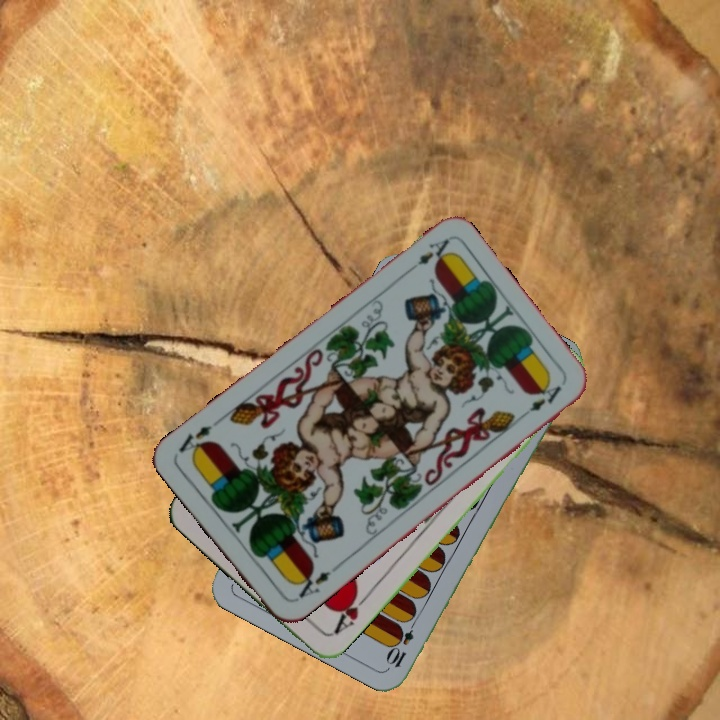E10: (384, 613, 420, 670)
EA: (401, 234, 454, 276), (290, 566, 334, 604)
HA: (329, 586, 372, 637)
